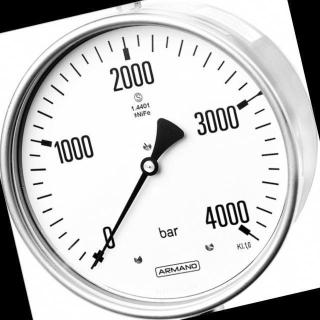gauge: (0, 0, 294, 320), (196, 194, 270, 262), (80, 214, 149, 276), (139, 155, 161, 177), (88, 259, 102, 271)
